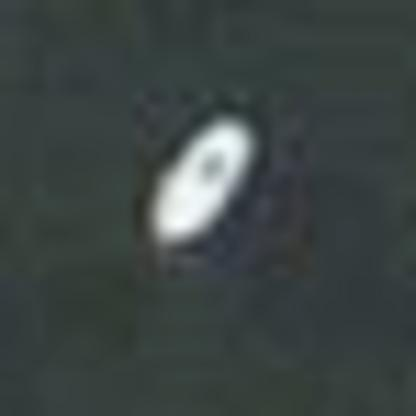ship: (118, 92, 274, 262)
